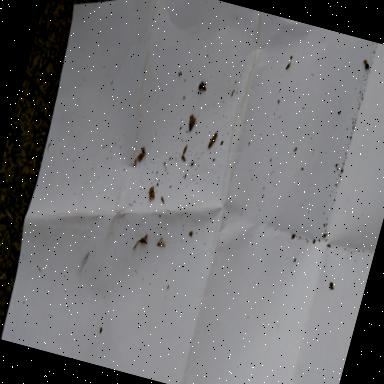pbw: (206, 130, 218, 150), (146, 186, 158, 204), (182, 144, 188, 156), (180, 154, 187, 162)
